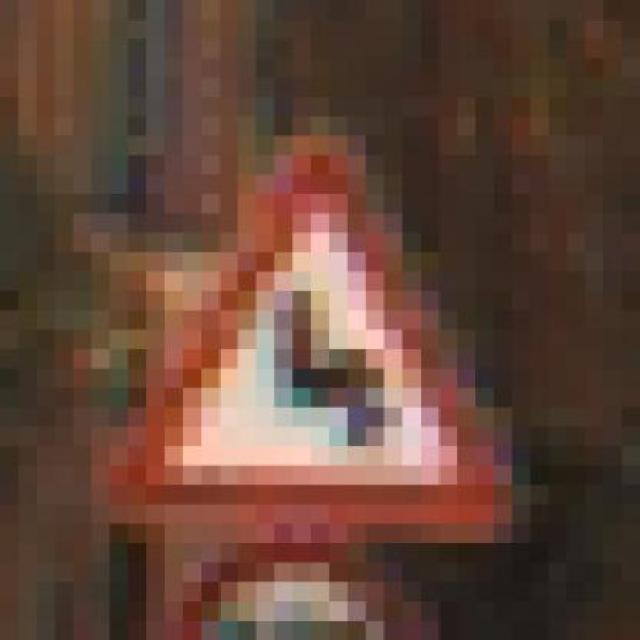Left Zig Zag Traffic: (91, 96, 512, 524)
